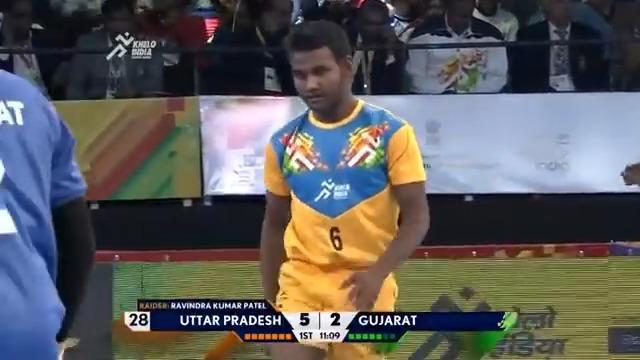Player: (0, 67, 97, 358)
Raider: (203, 17, 431, 357)
referee: (619, 161, 639, 188)
